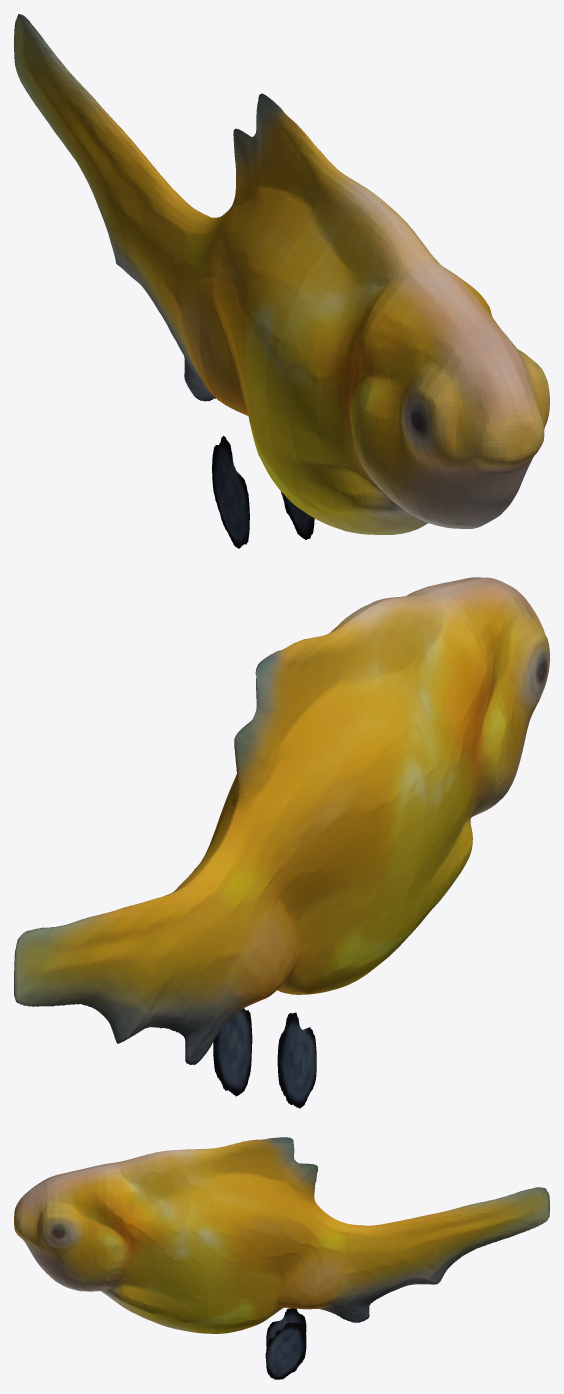
Rendered from fish_model.glb.
3 views of the same model, one above another, from view 1: azimuth 30°, elevation 25°; view 2: azimuth 150°, elevation 25°; view 3: azimuth 270°, elevation 25° (orthographic). The views are drawn at different scales.
Parts seen in each view (by area): view 1: world; view 2: world; view 3: world.
Boxes of the visible parts, x1=… form: world: x1=14, y1=14, x2=549, y2=548; world: x1=14, y1=577, x2=549, y2=1108; world: x1=14, y1=1137, x2=549, y2=1379.
Size of the model in its own units: 0.1788 by 0.4827 by 0.9988.
